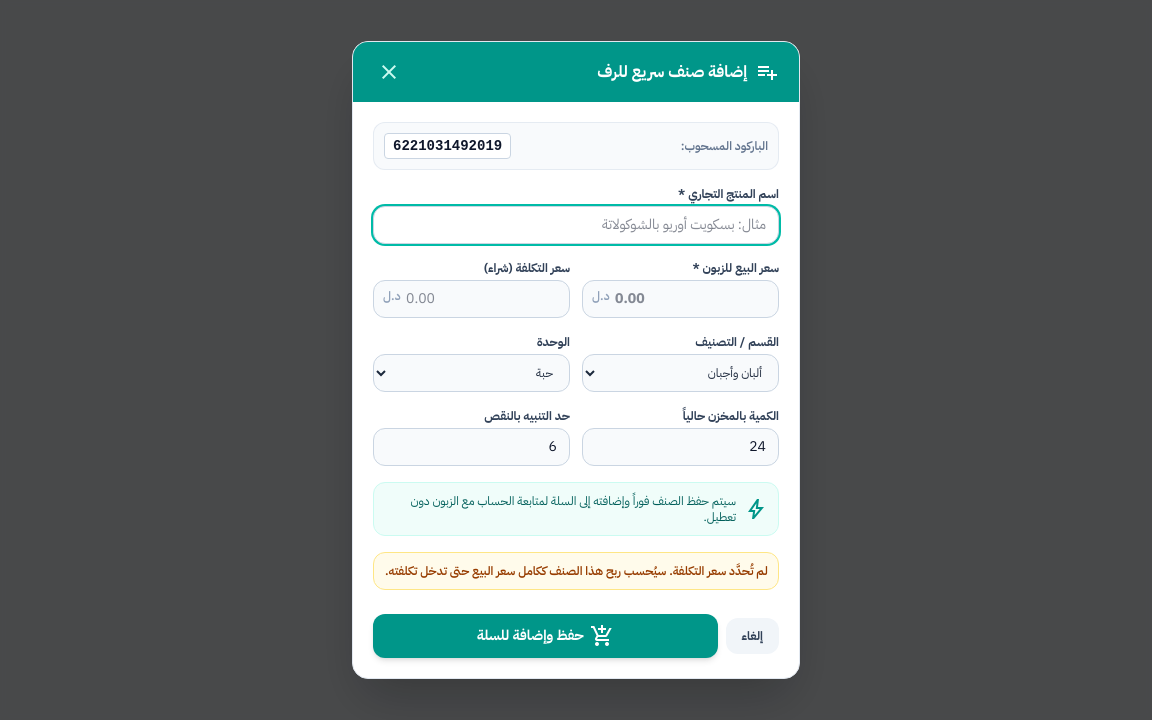
FastAddProductModal - cost is never invented › does not warn once a cost is entered
Type "أوريو" into the field labelled "اسم المنتج التجاري *" at point(576, 225), box [373, 206, 779, 244]
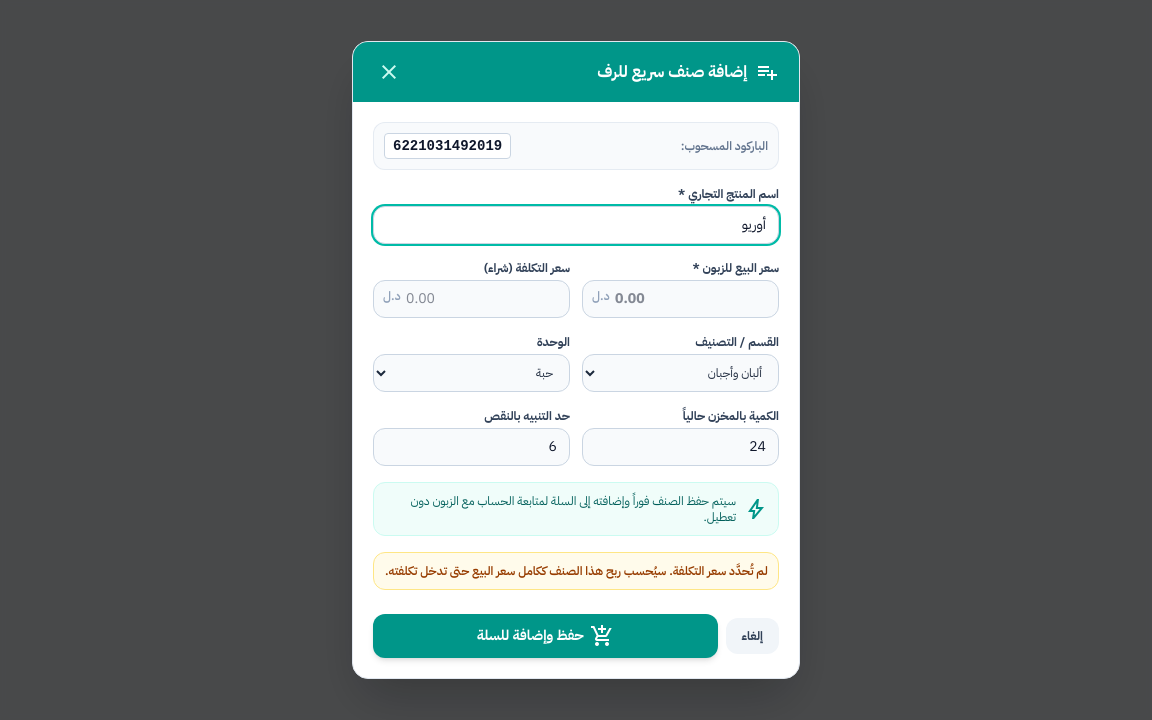
Type "2.5" into the number field labelled "سعر البيع للزبون *" at point(680, 299), box [582, 280, 779, 318]
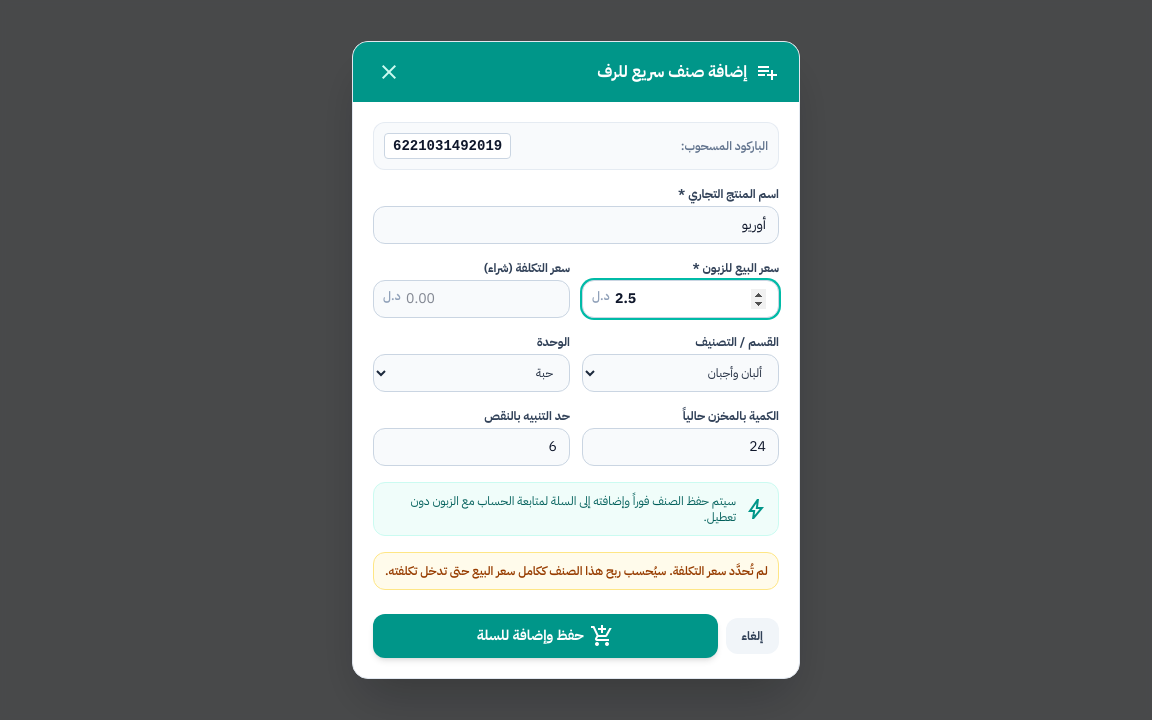
Type "1.75" into the number field labelled "سعر التكلفة (شراء)" at point(472, 299), box [373, 280, 570, 318]
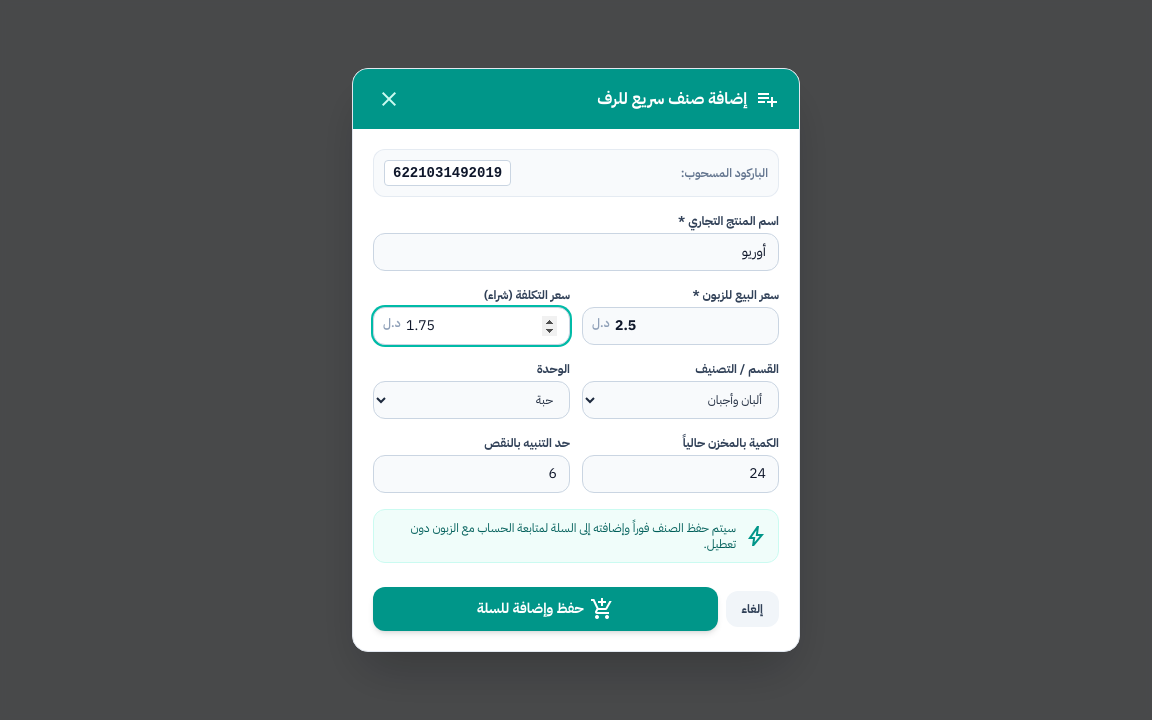
Check: the message "لم تُحدَّد سعر التكلفة. سيُحسب ربح هذا الصنف ككامل سعر البيع حتى تدخل تكلفته." is gone
